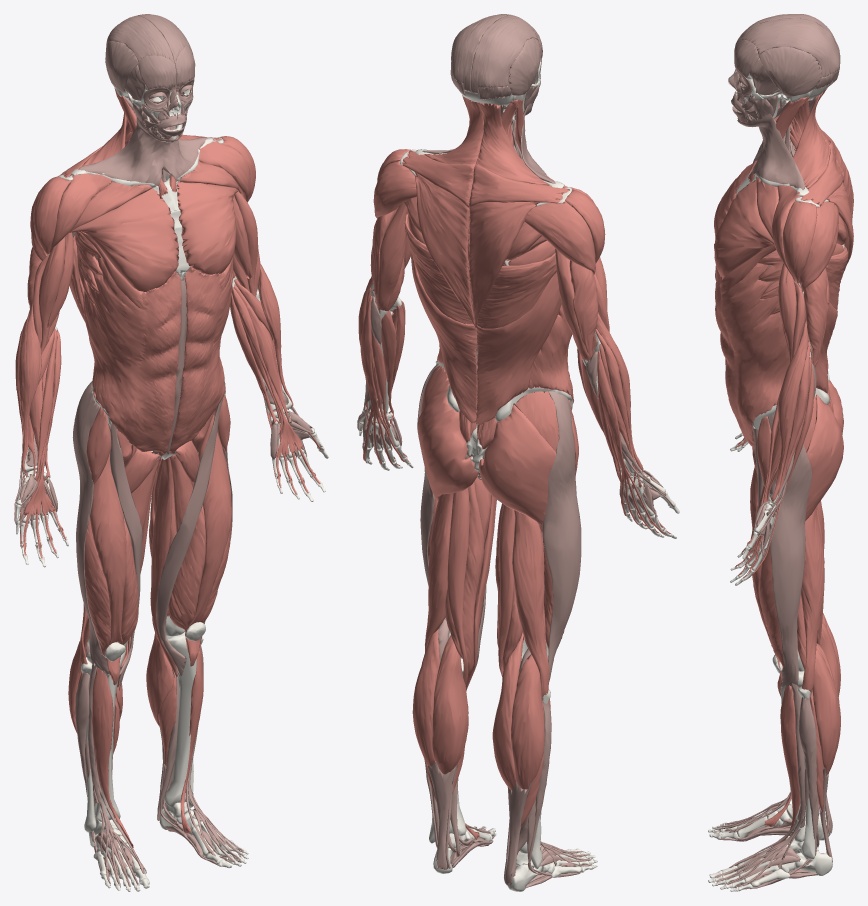
Rendered from muscles.glb.
The picture shows the model from 3 angles, left to right: view 1: azimuth 30°, elevation 25°; view 2: azimuth 150°, elevation 25°; view 3: azimuth 270°, elevation 25°; orthographic projection. The views are drawn at different scales.
Visible parts, largest first — view 1: context:muscles, muscle:external-oblique:R, context:bones, muscle:pectoralis-major-sternal:R, muscle:external-oblique:L, muscle:pectoralis-major-sternal:L, muscle:forearm-flexors:L, muscle:rectus-femoris:R, muscle:hip-adductors:L, muscle:forearm-flexors:R, muscle:rectus-femoris:L, muscle:vasti:R (+20 smaller); view 2: context:muscles, muscle:latissimus-dorsi:R, context:bones, muscle:hamstrings:L, muscle:hamstrings:R, muscle:gastrocnemius:L, muscle:latissimus-dorsi:L, muscle:gluteus-maximus:R, muscle:gastrocnemius:R, muscle:trapezius-lower:L, muscle:trapezius-lower:R, muscle:gluteus-maximus:L (+19 smaller); view 3: context:muscles, muscle:external-oblique:L, context:bones, muscle:pectoralis-major-sternal:L, muscle:hamstrings:L, muscle:gluteus-maximus:L, muscle:gastrocnemius:L, muscle:forearm-extensors:L, muscle:brachioradialis:L, muscle:deltoid-lateral:L, muscle:deltoid-posterior:L, muscle:trapezius-upper:L (+20 smaller).
Boxes of the visible parts, x1,y1,x2,y2 form: context:muscles: (14, 14, 312, 889); muscle:external-oblique:R: (83, 257, 181, 453); context:bones: (15, 64, 328, 891); muscle:pectoralis-major-sternal:R: (69, 188, 178, 308); muscle:external-oblique:L: (169, 261, 233, 452); muscle:pectoralis-major-sternal:L: (176, 182, 237, 288); muscle:forearm-flexors:L: (230, 279, 321, 494); muscle:rectus-femoris:R: (90, 453, 126, 685); muscle:hip-adductors:L: (150, 440, 199, 677); muscle:forearm-flexors:R: (19, 328, 66, 558); muscle:rectus-femoris:L: (185, 414, 231, 666); muscle:vasti:R: (84, 517, 138, 656); context:muscles: (357, 14, 674, 887); muscle:latissimus-dorsi:R: (475, 252, 561, 424); context:bones: (358, 58, 679, 891); muscle:hamstrings:L: (425, 481, 484, 684); muscle:hamstrings:R: (495, 503, 549, 697); muscle:gastrocnemius:L: (412, 628, 468, 774); muscle:latissimus-dorsi:L: (404, 214, 477, 423); muscle:gluteus-maximus:R: (479, 403, 555, 526); muscle:gastrocnemius:R: (492, 632, 544, 790); muscle:trapezius-lower:L: (414, 172, 475, 327); muscle:trapezius-lower:R: (469, 202, 539, 328); muscle:gluteus-maximus:L: (417, 389, 478, 501); context:muscles: (713, 14, 840, 889); muscle:external-oblique:L: (715, 263, 789, 447); context:bones: (708, 58, 844, 891); muscle:pectoralis-major-sternal:L: (714, 180, 776, 293); muscle:hamstrings:L: (797, 506, 824, 692); muscle:gluteus-maximus:L: (805, 394, 843, 520); muscle:gastrocnemius:L: (812, 643, 840, 774); muscle:forearm-extensors:L: (751, 340, 814, 574); muscle:brachioradialis:L: (771, 319, 808, 502); muscle:deltoid-lateral:L: (782, 201, 817, 283); muscle:deltoid-posterior:L: (799, 201, 838, 292); muscle:trapezius-upper:L: (793, 88, 830, 188).
Size of the model in its own units: 0.6478 by 1.65 by 0.259.
